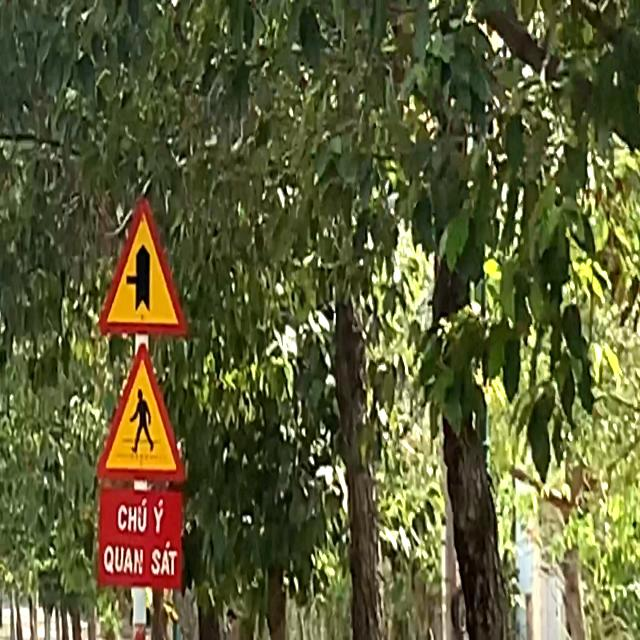Nguoi di bo cat ngang: (96, 342, 186, 486)
